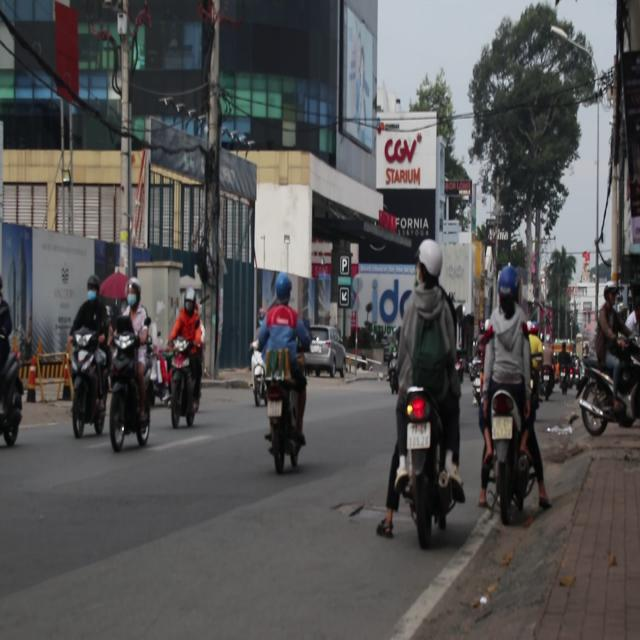car: (305, 323, 347, 378)
motorbike: (397, 375, 458, 558), (489, 390, 537, 524), (108, 331, 156, 456), (266, 348, 308, 479), (164, 335, 214, 438), (576, 349, 635, 435), (67, 327, 109, 441), (540, 364, 554, 400)
